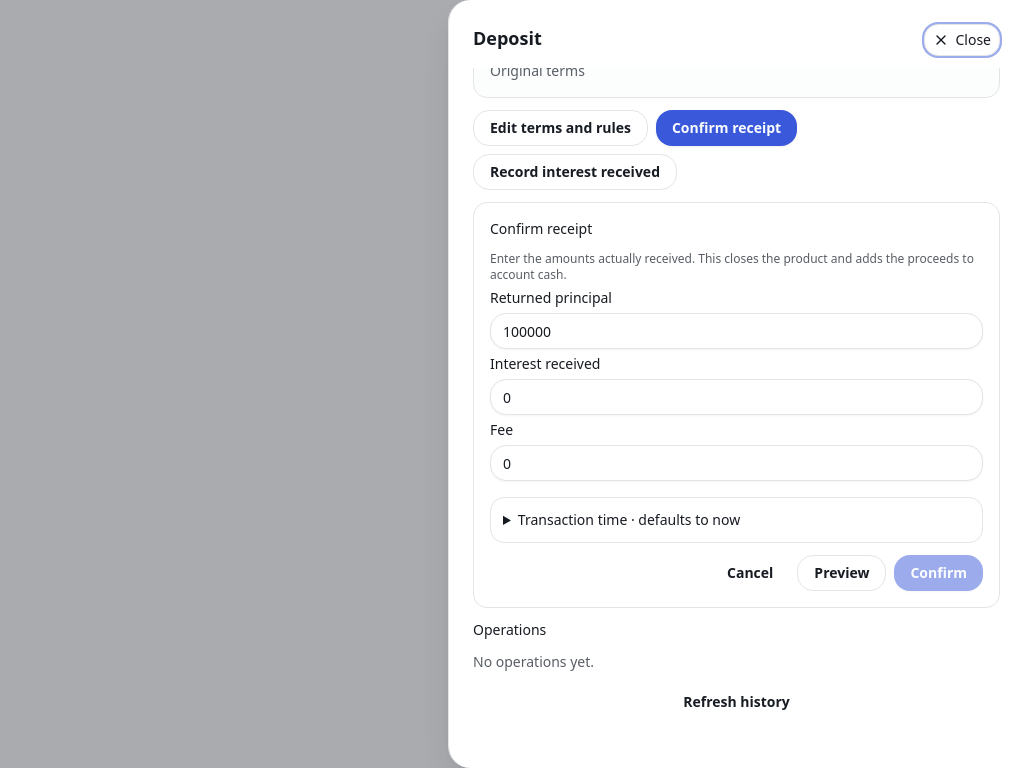
Scenario: product P1 regression flows › opens a permitted receipt draft after a fresh read without posting
(page scrolled)
Check: the field labelled "Returned principal" holds "100000", box top-left (490, 313), bottom-right (983, 349)
Click the button "Cancel": {"x": 750, "y": 573} top-left (711, 555), bottom-right (789, 591)
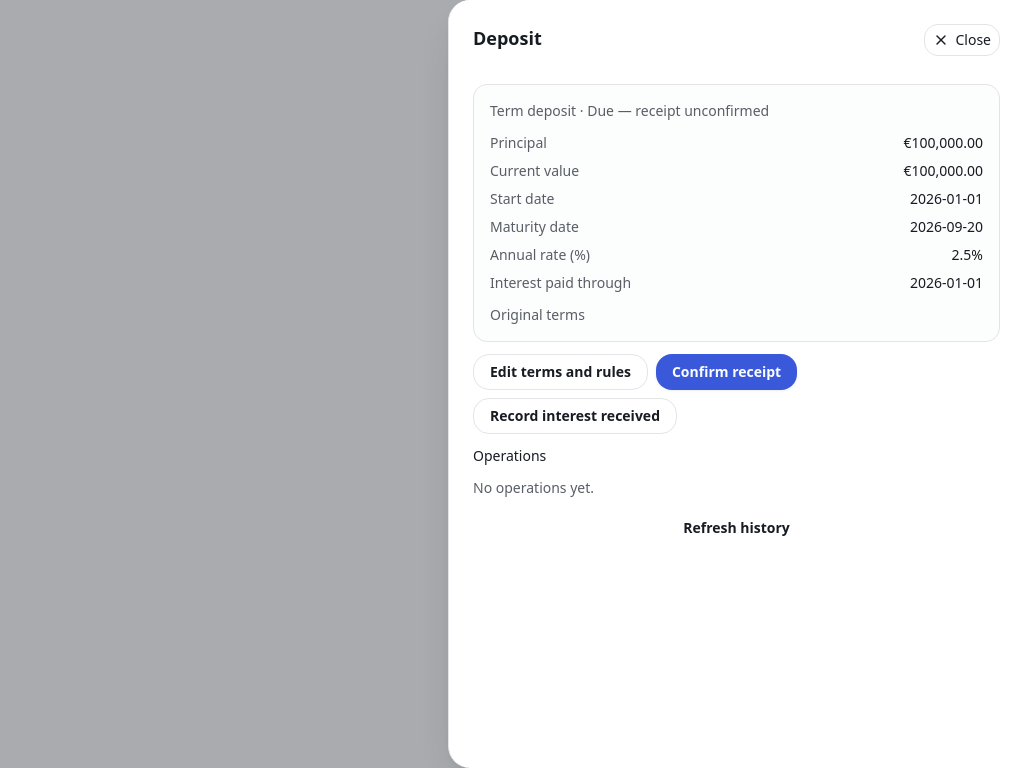
Check: the label labelled "Returned principal" is gone
